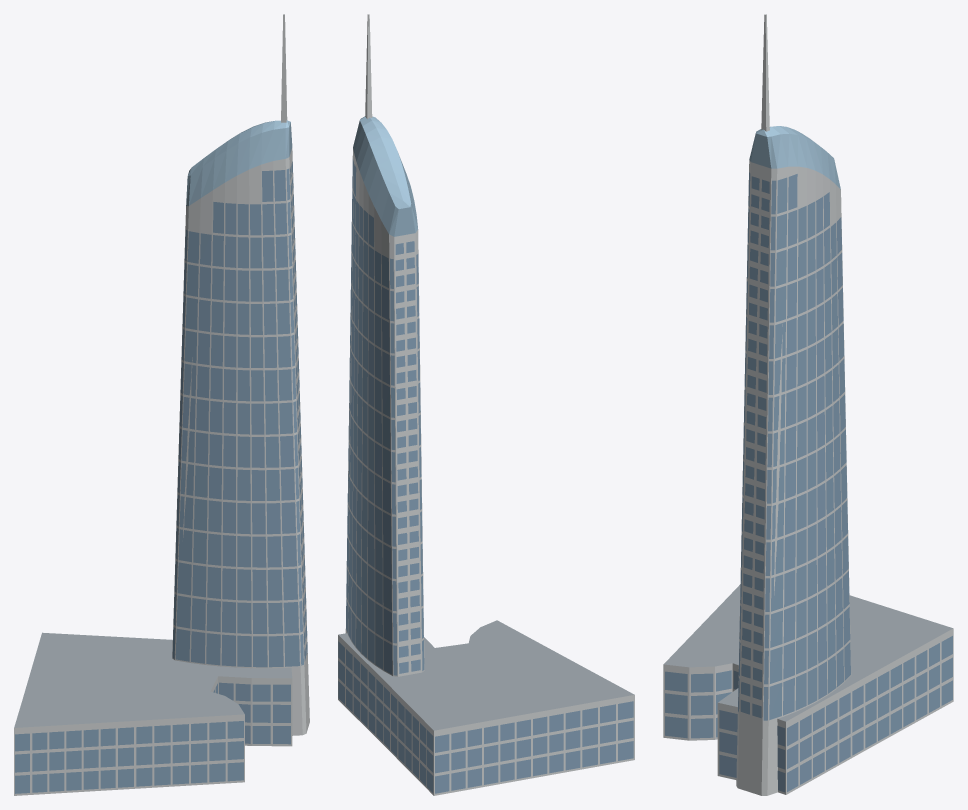
3 renders of one model, left to right at view 1: azimuth 30°, elevation 25°; view 2: azimuth 150°, elevation 25°; view 3: azimuth 270°, elevation 25°, orthographic. The views are drawn at different scales.
Parts seen in each view (by area): view 1: wilshire-grand-center; view 2: wilshire-grand-center; view 3: wilshire-grand-center.
Boxes of the visible parts, x1,y1,x2,y2 form: wilshire-grand-center: [14, 14, 309, 795]; wilshire-grand-center: [338, 14, 634, 795]; wilshire-grand-center: [663, 14, 953, 795].
Size of the model in its own units: 147 by 335 by 115.
